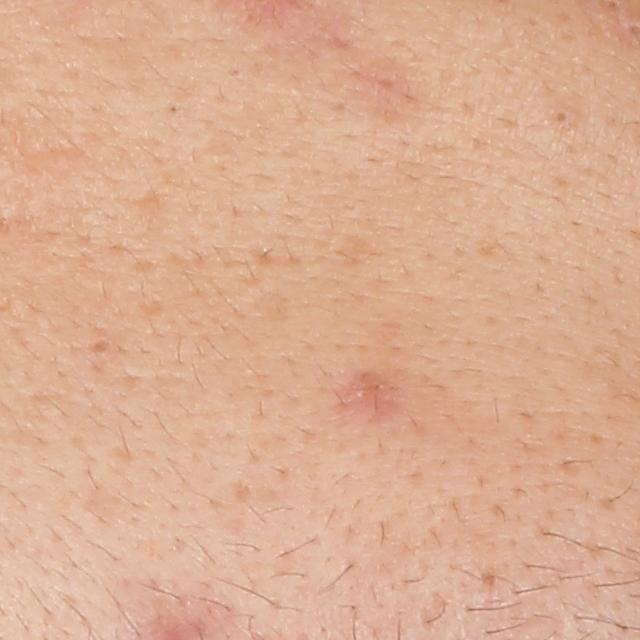comedo: (91, 335, 118, 360), (551, 109, 575, 129), (162, 100, 186, 120)
